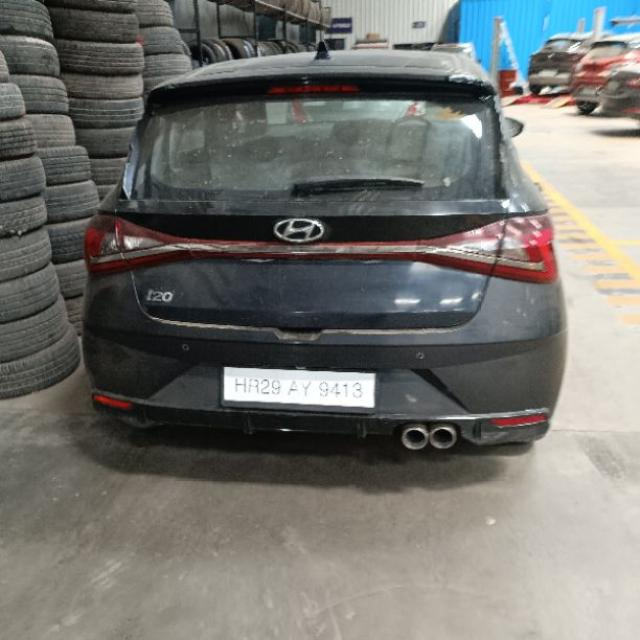license_plate: (218, 365, 378, 411)
